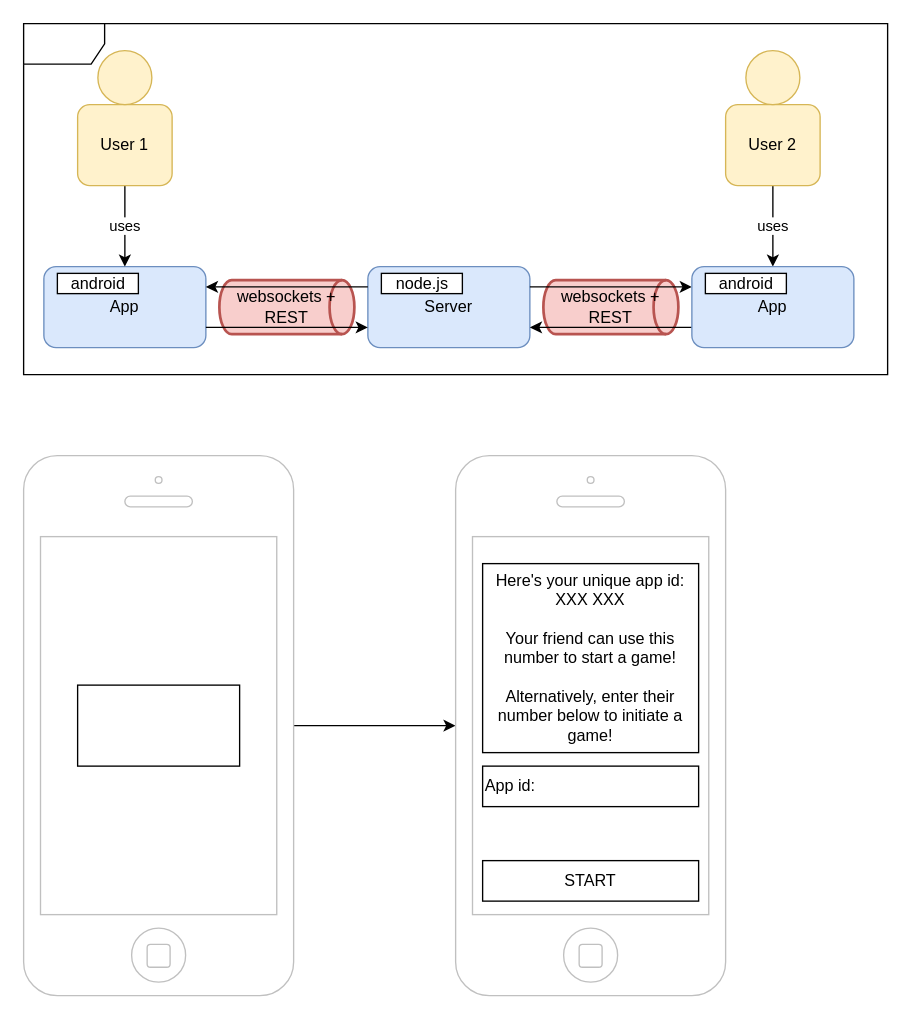
Some shapes in this 911 by 1019 pixel diagram are drawn without their labels. The shapes that lost their labels are listed below. From the top down, each one's centre as x and y in pixels, then its label:
At point 455,198: "system context".
At point 158,725: "SPLASH SCREEN".
